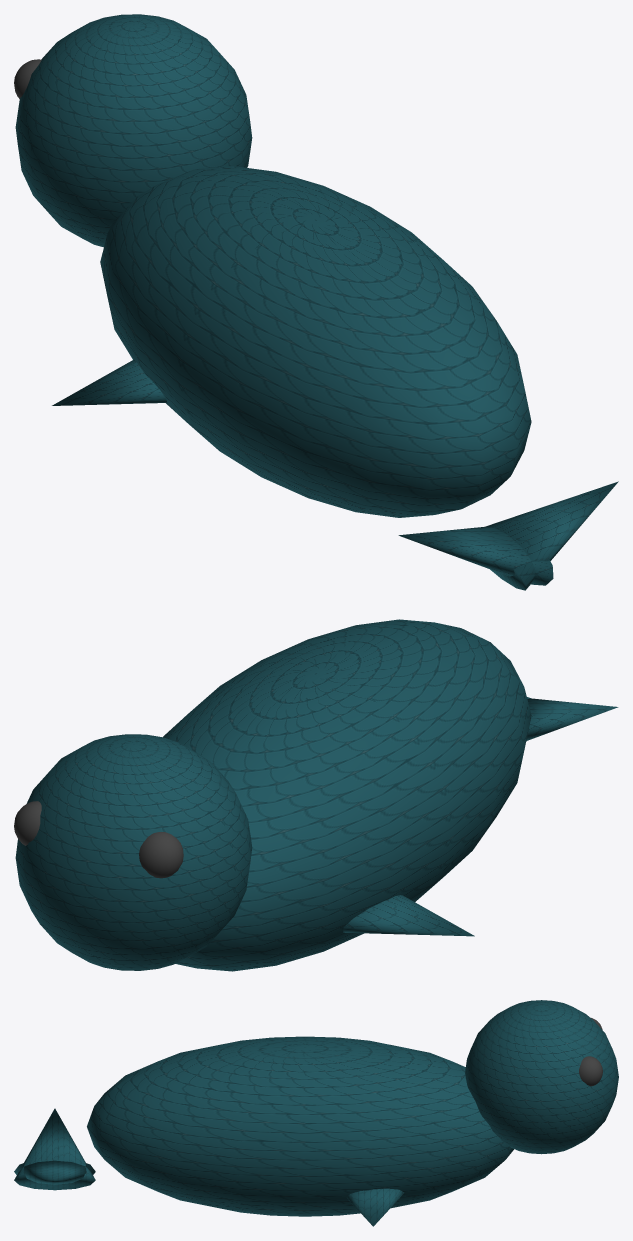
The model's file is selkie.glb.
3 views of the same model, one above another, from view 1: azimuth 30°, elevation 25°; view 2: azimuth 150°, elevation 25°; view 3: azimuth 270°, elevation 25° (orthographic). The views are drawn at different scales.
Parts seen in each view (by area): view 1: Body, Head, Fluke.001, Fluke, Flipper; view 2: Body, Head, Flipper, Fluke, Eye, Eye.001; view 3: Body, Head, Fluke, Fluke.001, Flipper.001, Eye.001.
Boxes of the visible parts, x1=… form: Body: x1=100, y1=166, x2=531, y2=517; Head: x1=15, y1=14, x2=252, y2=247; Fluke.001: x1=485, y1=481, x2=618, y2=590; Fluke: x1=398, y1=526, x2=553, y2=585; Flipper: x1=52, y1=359, x2=167, y2=405; Body: x1=163, y1=619, x2=531, y2=971; Head: x1=15, y1=734, x2=252, y2=970; Flipper: x1=343, y1=895, x2=474, y2=936; Fluke: x1=526, y1=698, x2=618, y2=740; Eye: x1=139, y1=832, x2=183, y2=878; Eye.001: x1=14, y1=801, x2=41, y2=845; Body: x1=87, y1=1036, x2=513, y2=1216; Head: x1=465, y1=1000, x2=618, y2=1154; Fluke: x1=14, y1=1108, x2=95, y2=1190; Fluke.001: x1=14, y1=1160, x2=95, y2=1184; Flipper.001: x1=346, y1=1188, x2=404, y2=1226; Eye.001: x1=579, y1=1056, x2=602, y2=1086.
Size of the model in its own units: 0.7 by 0.482 by 1.33.
2 materials, 1 textured.
